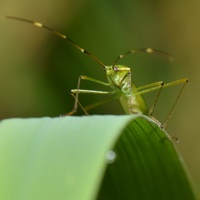insect: (5, 16, 187, 129), (151, 83, 183, 124)
